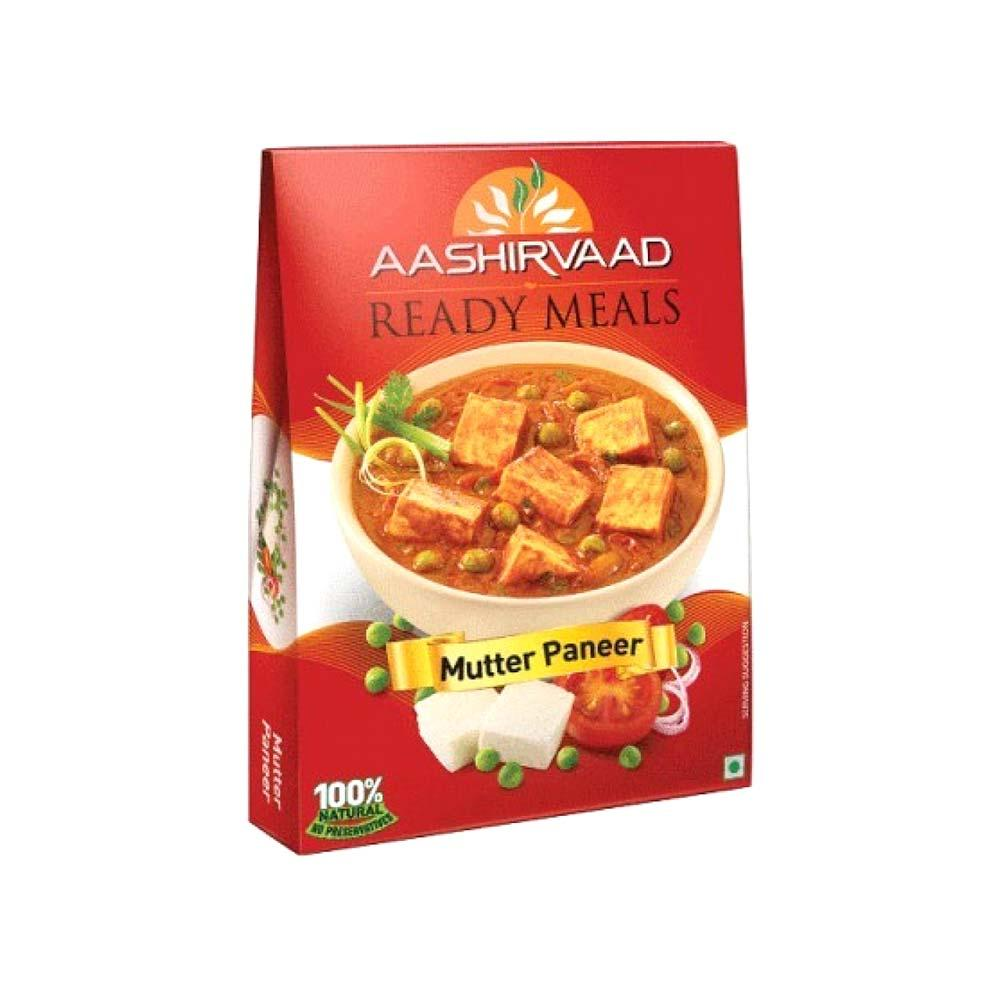VEG: (724, 754, 748, 781)
